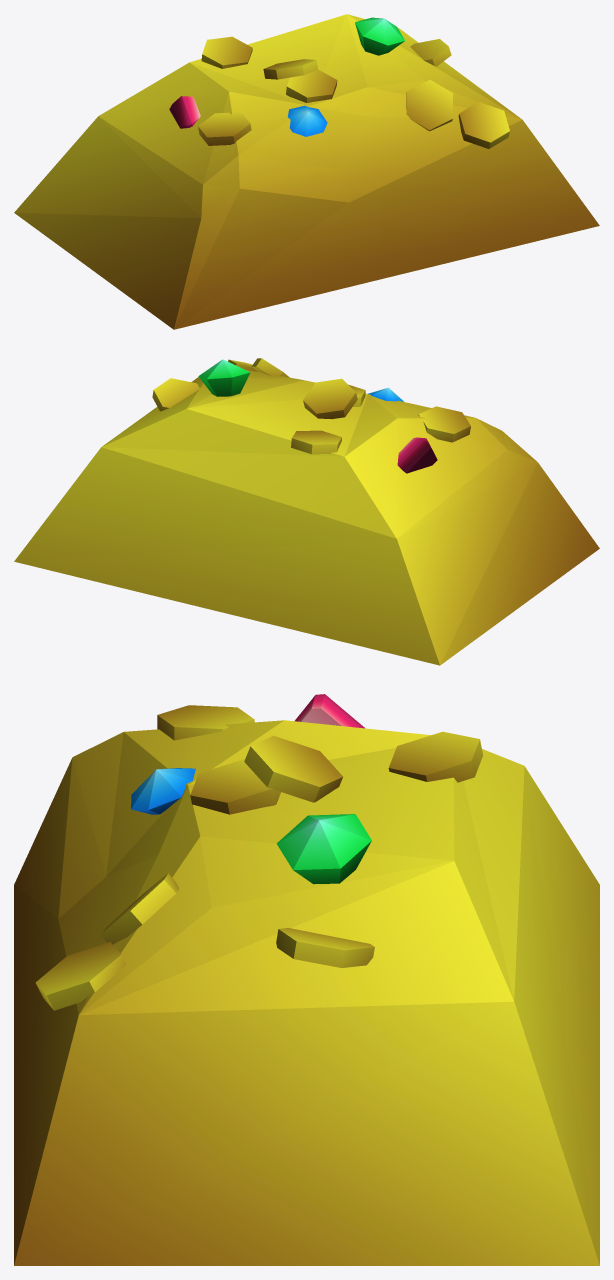
File: Chest_Treasure.fbx
3 views of the same model, one above another, from view 1: azimuth 30°, elevation 25°; view 2: azimuth 150°, elevation 25°; view 3: azimuth 270°, elevation 25° (orthographic). The views are drawn at different scales.
Visible parts, largest first — view 1: Chest_Treasure; view 2: Chest_Treasure; view 3: Chest_Treasure.
Boxes of the visible parts, bbox=[...] form: Chest_Treasure: bbox=[14, 14, 599, 329]; Chest_Treasure: bbox=[14, 358, 599, 665]; Chest_Treasure: bbox=[14, 694, 599, 1265].
Bounding box in the file's own units: 89.17 × 57.96 × 35.72.
1 material, 1 textured.
